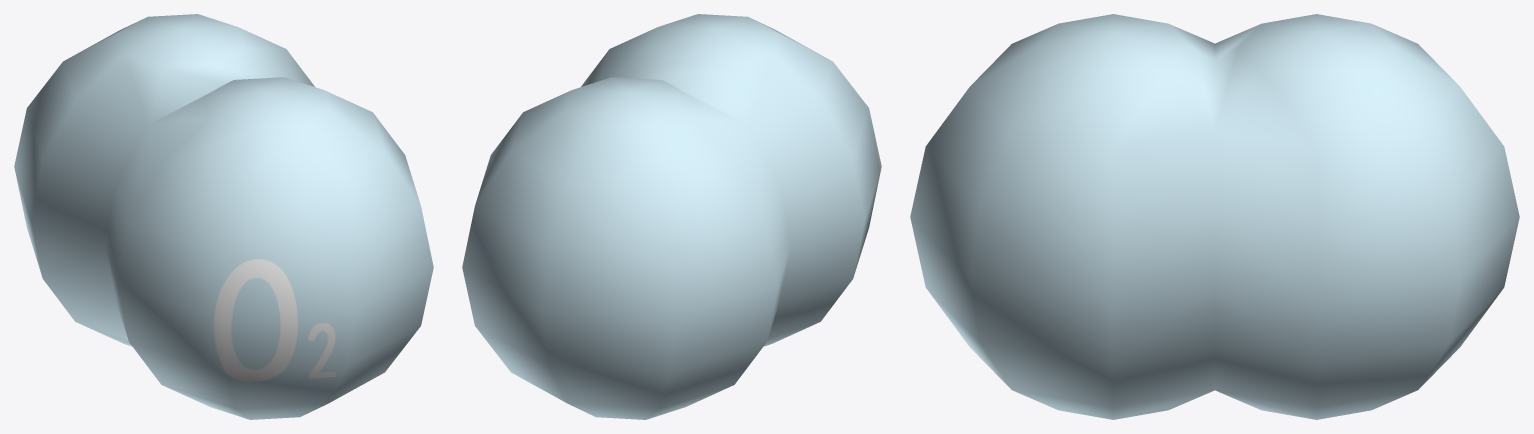
File: M_yangqi.fbx
3 renders of one model, left to right at view 1: azimuth 30°, elevation 25°; view 2: azimuth 150°, elevation 25°; view 3: azimuth 270°, elevation 25°, orthographic. The views are drawn at different scales.
Parts seen in each view (by area): view 1: polySurface3; view 2: polySurface3; view 3: polySurface3.
Part boxes in pixels (x1=…): polySurface3: x1=14, y1=14, x2=433, y2=419; polySurface3: x1=462, y1=14, x2=881, y2=419; polySurface3: x1=910, y1=14, x2=1519, y2=419.
Size of the model in its own units: 5.57 by 5.57 by 8.35.
